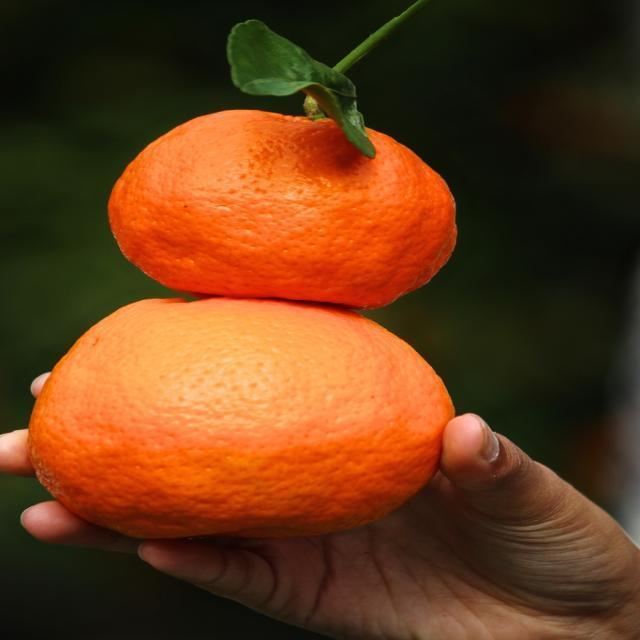Orange: (27, 296, 456, 540), (106, 108, 458, 310)
